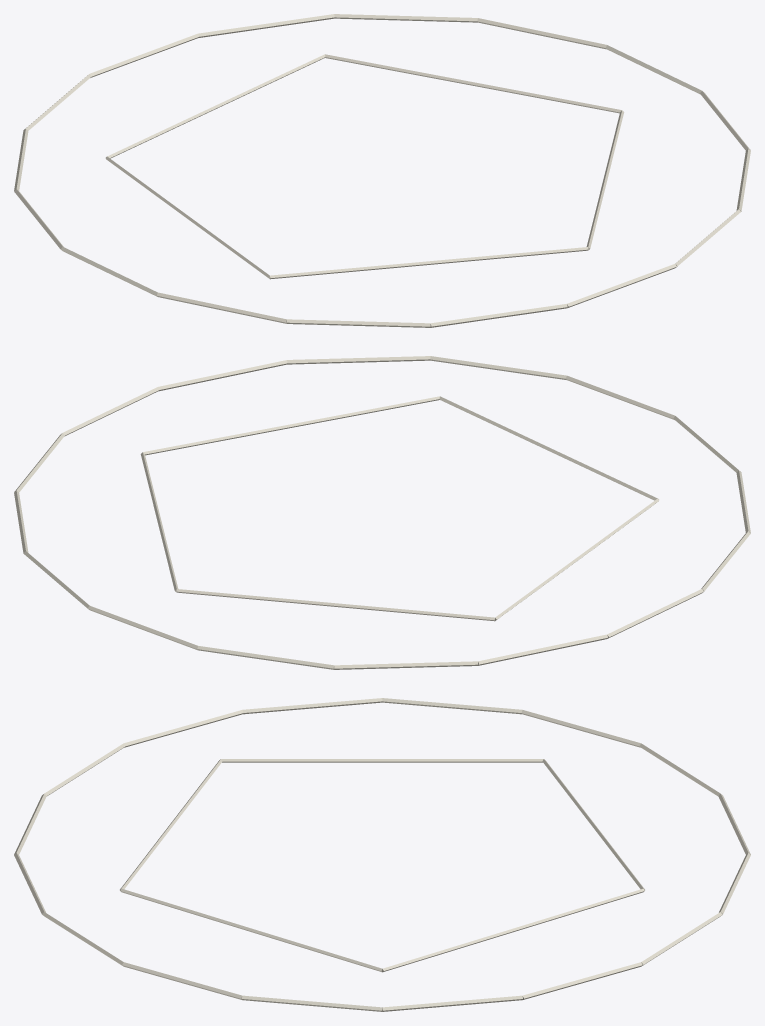
The model's file is blender_chalk_sigil_kit_3_deployed.glb.
3 renders of one model, top to bottom at view 1: azimuth 30°, elevation 25°; view 2: azimuth 150°, elevation 25°; view 3: azimuth 270°, elevation 25°, orthographic.
Visible parts, largest first — view 1: blender_chalk_sigil_kit_3_deployed; view 2: blender_chalk_sigil_kit_3_deployed; view 3: blender_chalk_sigil_kit_3_deployed.
Boxes of the visible parts, box(x1,y1,x2,y2) form: blender_chalk_sigil_kit_3_deployed: box(14, 14, 750, 327); blender_chalk_sigil_kit_3_deployed: box(14, 356, 750, 669); blender_chalk_sigil_kit_3_deployed: box(14, 698, 750, 1011).
Size of the model in its own units: 0.7249 by 0.005 by 0.7249.
Materials: 1 (1 with a texture image).
